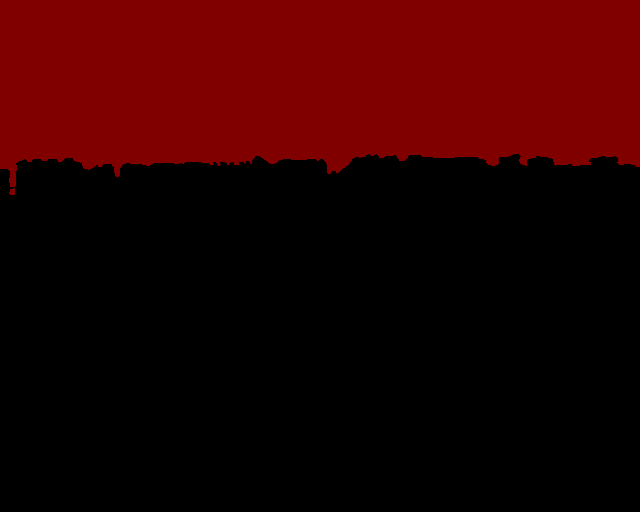Sky: (1, 1, 639, 195)
